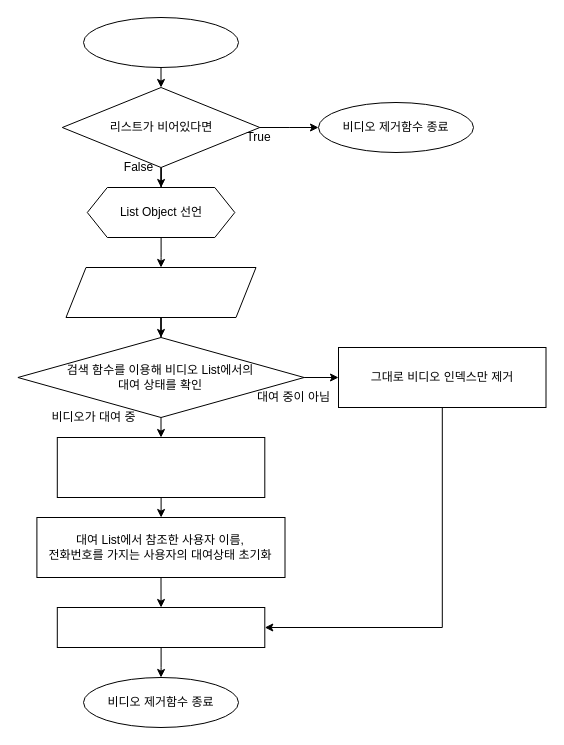
This 564x745 diagram has some shape labels left out. Each missing label, with the box of its shape:
대여 List에서 이름, 고유 인덱스가 동일한 데이터를 지운다.: (56, 436, 265, 498)
비디오 제거함수 호출: (82, 16, 238, 68)
자동 저장함수 실행: (56, 606, 265, 648)
제거할 데이터의 이름을 입력: (65, 266, 256, 318)
